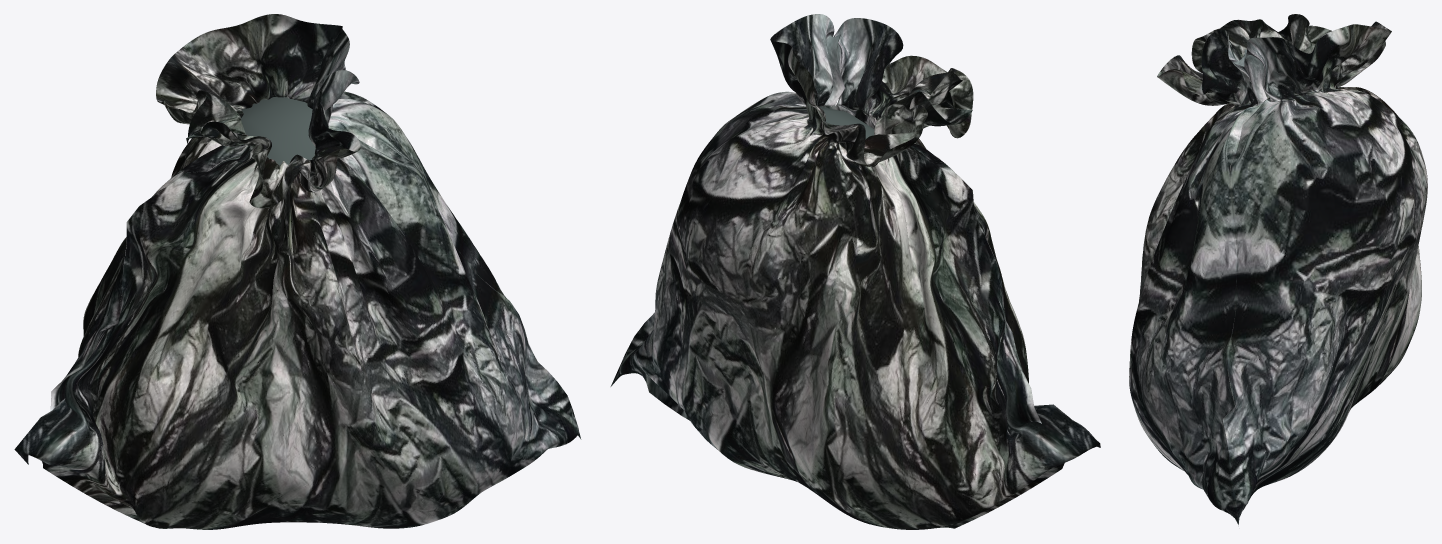
Rendered from bolsa.fbx.
3 views of the same model, side by side, from view 1: azimuth 30°, elevation 25°; view 2: azimuth 150°, elevation 25°; view 3: azimuth 270°, elevation 25° (orthographic). The views are drawn at different scales.
Parts seen in each view (by area): view 1: Mball.003; view 2: Mball.003; view 3: Mball.003.
Boxes of the visible parts, x1,y1,x2,y2 form: Mball.003: (14, 14, 581, 529); Mball.003: (610, 14, 1100, 529); Mball.003: (1129, 14, 1427, 524).
Bounding box in the file's own units: 115 × 98.03 × 62.23.
2 materials, 2 textured.
